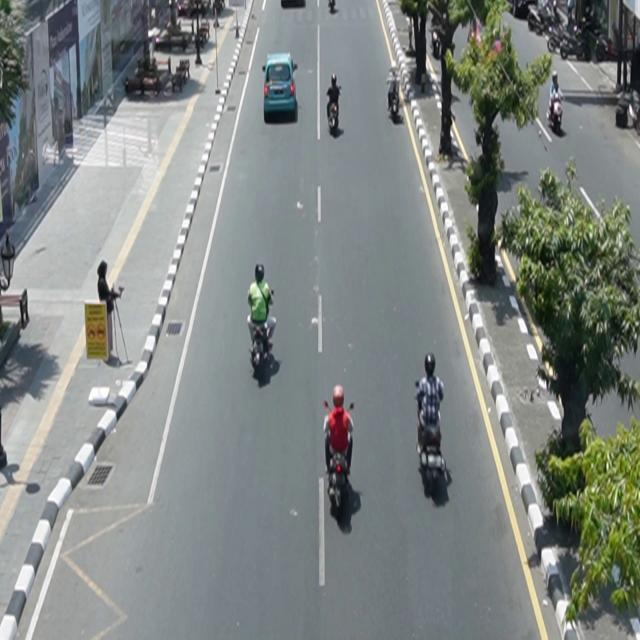car: (263, 53, 299, 124)
